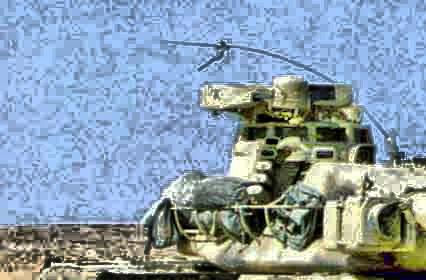tanks: (37, 78, 426, 280)
